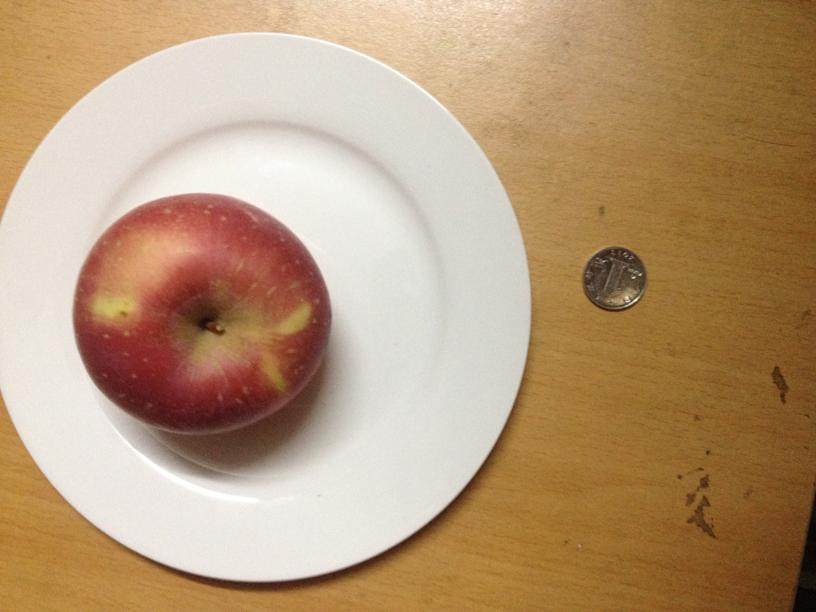apple: (71, 189, 331, 432)
coin: (582, 243, 647, 311)
